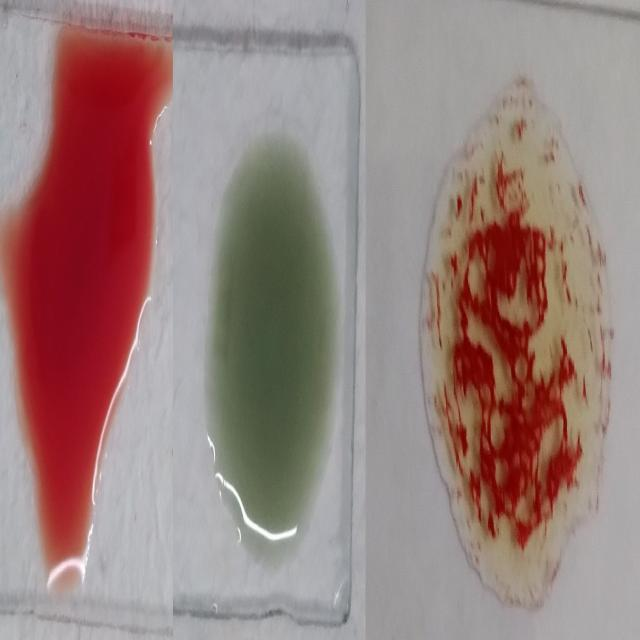B: (423, 76, 608, 594)
